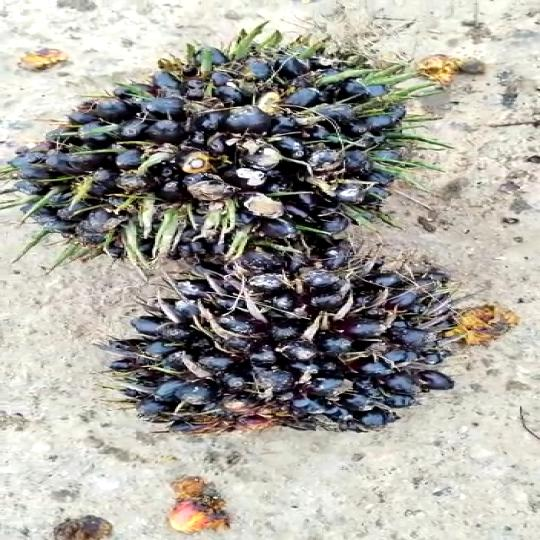mentah: (28, 41, 442, 271), (109, 267, 458, 441)
